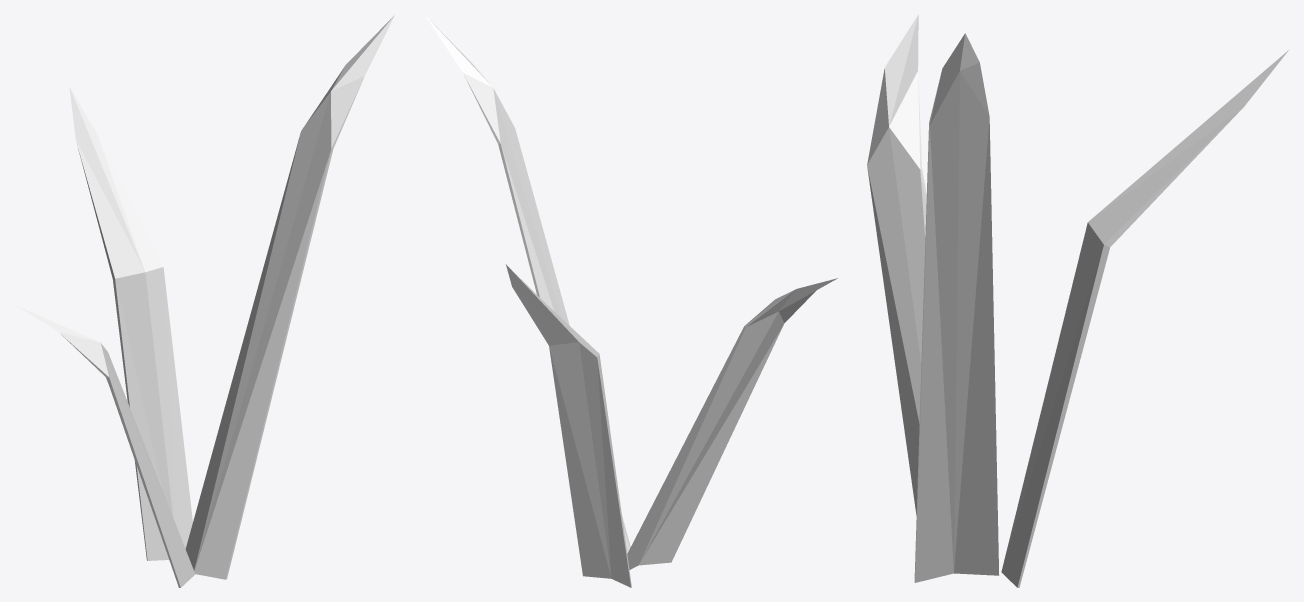
Rendered from Env_Grass_Patch_Yellow_02.glb.
3 views of the same model, side by side, from view 1: azimuth 30°, elevation 25°; view 2: azimuth 150°, elevation 25°; view 3: azimuth 270°, elevation 25° (orthographic). The views are drawn at different scales.
Parts seen in each view (by area): view 1: Env_Grass_Patch_Yellow_02; view 2: Env_Grass_Patch_Yellow_02; view 3: Env_Grass_Patch_Yellow_02.
Boxes of the visible parts, <box> form: Env_Grass_Patch_Yellow_02: <box>15,15,394,587</box>; Env_Grass_Patch_Yellow_02: <box>424,14,837,587</box>; Env_Grass_Patch_Yellow_02: <box>867,14,1289,587</box>.
Size of the model in its own units: 0.2057 by 0.2491 by 0.1421.
Materials: 1 (1 with a texture image).
